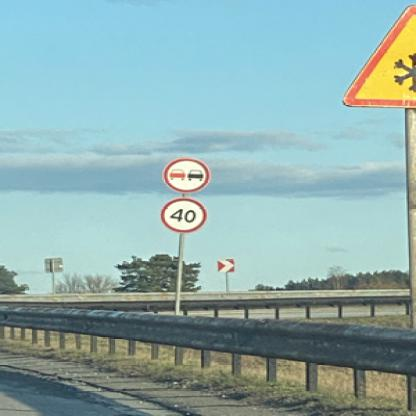speedlimit: (160, 196, 206, 232)
